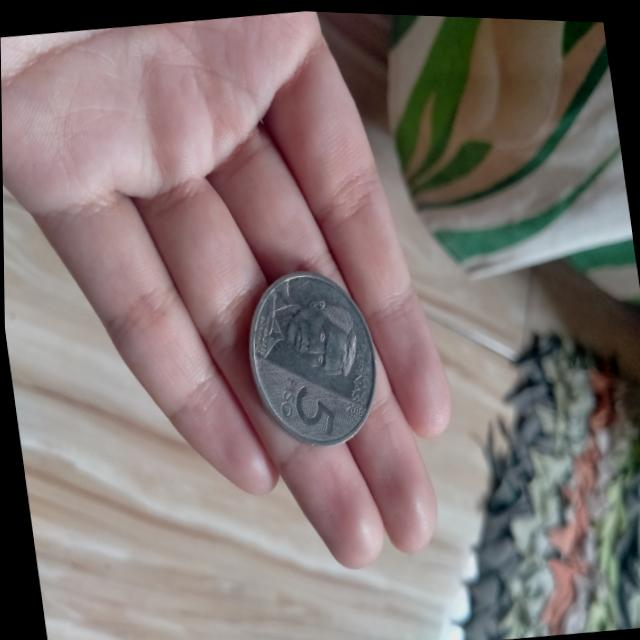5_New_Front: (249, 272, 372, 437)
